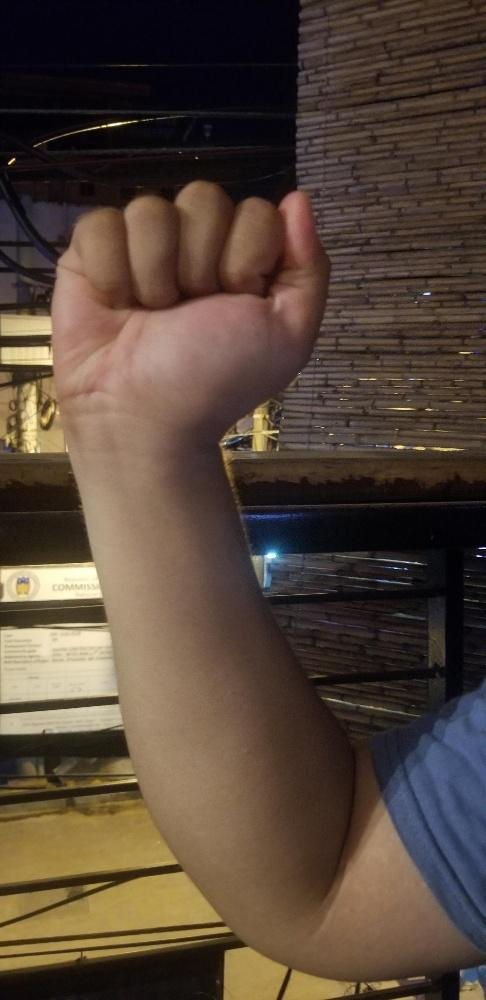a: (43, 181, 331, 424)
